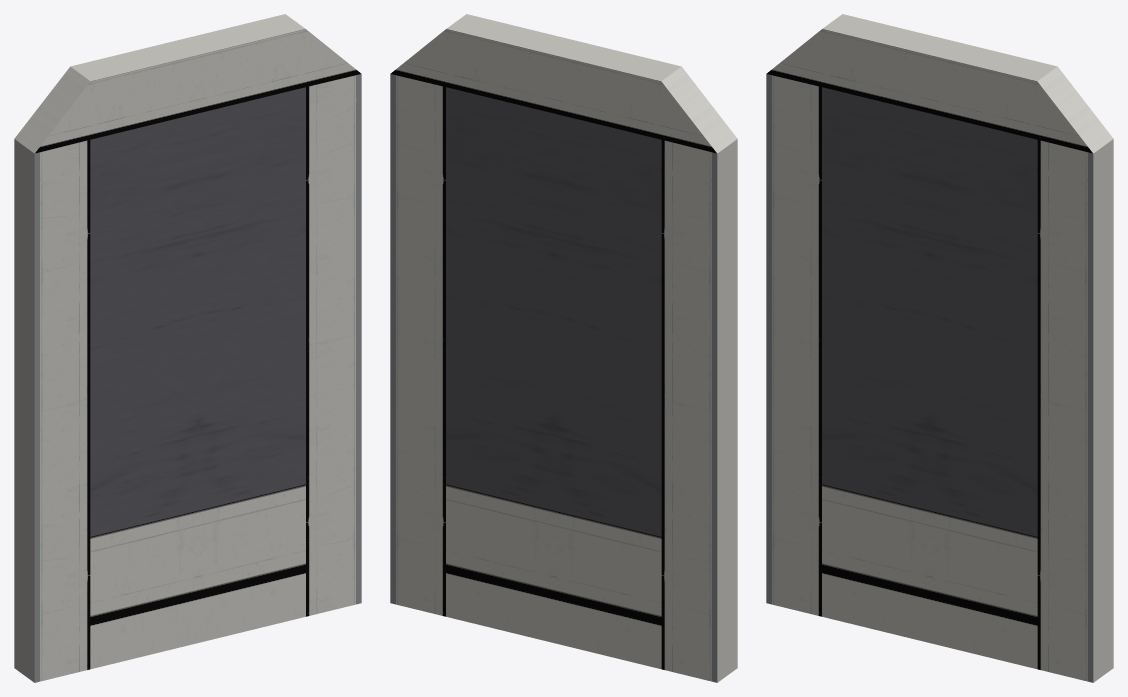
The model's file is G_Env_Arch_Door_01_Grate.fbx.
3 views of the same model, side by side, from view 1: azimuth 30°, elevation 25°; view 2: azimuth 150°, elevation 25°; view 3: azimuth 330°, elevation 25° (orthographic).
Parts seen in each view (by area): view 1: G_Env_Arch_Door_01_Grate; view 2: G_Env_Arch_Door_01_Grate; view 3: G_Env_Arch_Door_01_Grate.
Part boxes in pixels (x1=…): G_Env_Arch_Door_01_Grate: x1=14, y1=14, x2=361, y2=682; G_Env_Arch_Door_01_Grate: x1=390, y1=14, x2=737, y2=682; G_Env_Arch_Door_01_Grate: x1=766, y1=14, x2=1113, y2=682.
Bounding box in the file's own units: 398 × 683 × 42.79.
